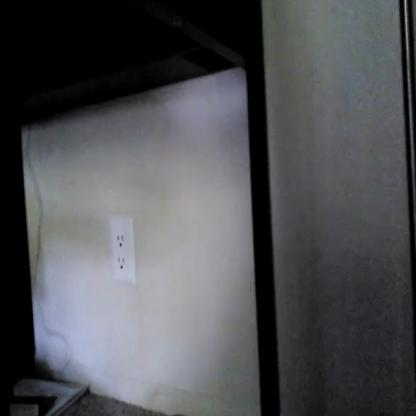OUTLET: (109, 215, 134, 281)
